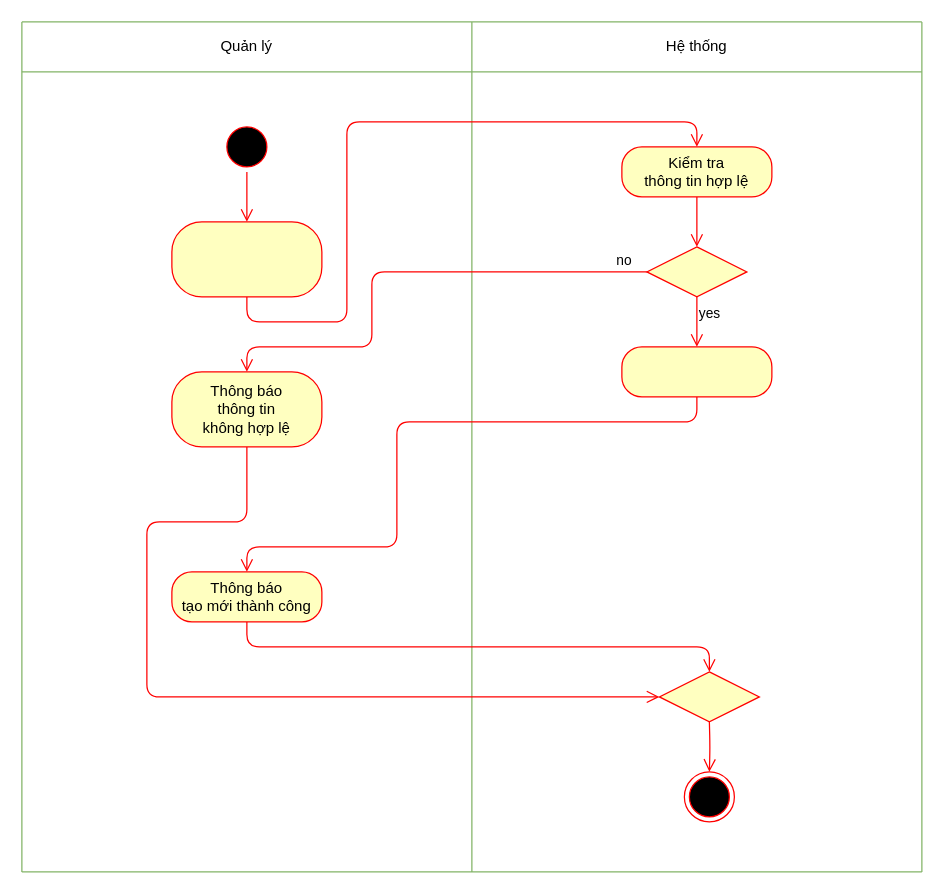
The diagram is 945 pixels wide and 895 high, and some of its shapes have lost their labels. The shapes that lost their labels are listed below. From the top down, each one's centre as x and y in pixels, then its label:
At [246,259]: "Thêm thông tin bắt buộc cho thực đơn".
At [696,371]: "Tạo thực đơn mới".
